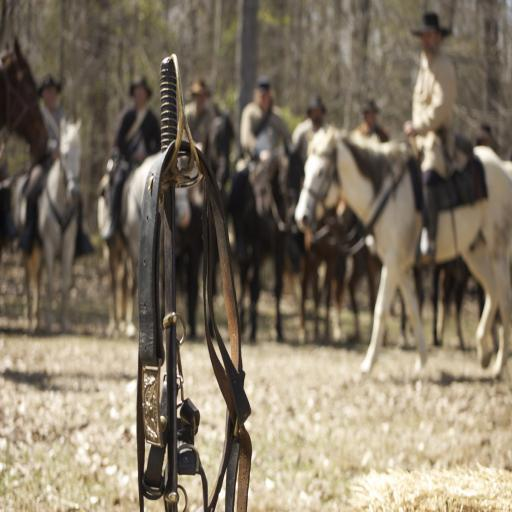horse: (292, 138, 512, 380), (96, 141, 188, 337), (12, 118, 84, 338), (438, 138, 512, 344), (176, 108, 238, 341), (227, 148, 284, 346), (298, 146, 348, 348), (344, 130, 390, 348)
